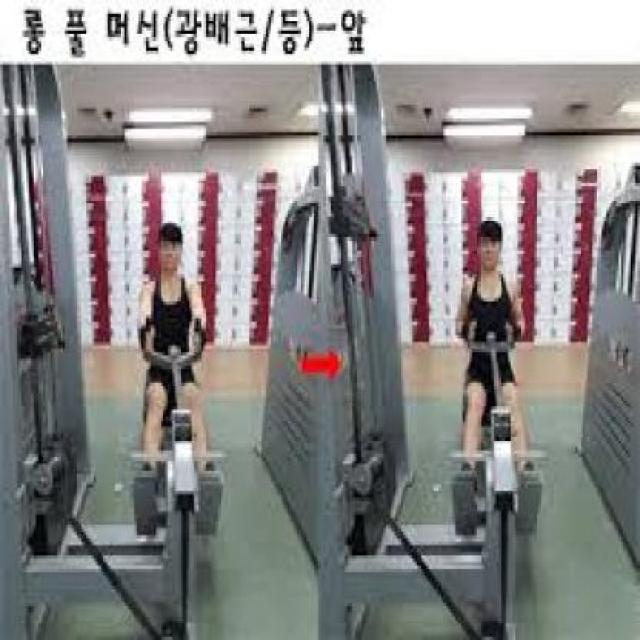Seated Cable Rows: (257, 66, 555, 640), (0, 64, 240, 640)
